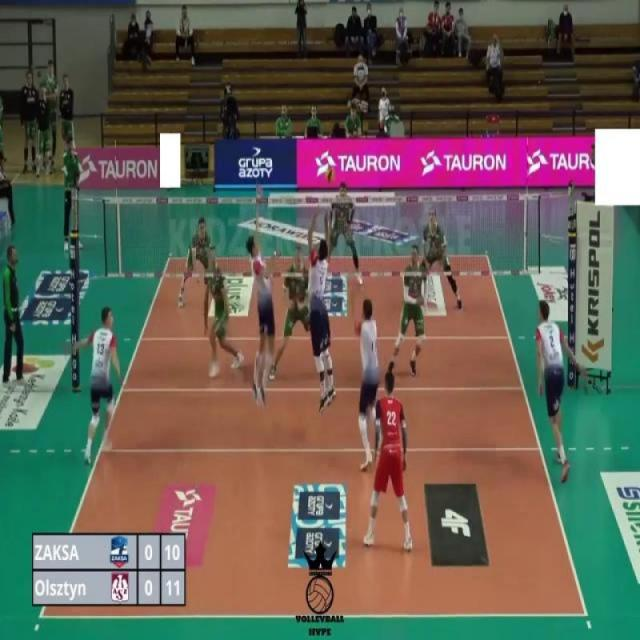volleyball: (324, 168, 336, 184)
